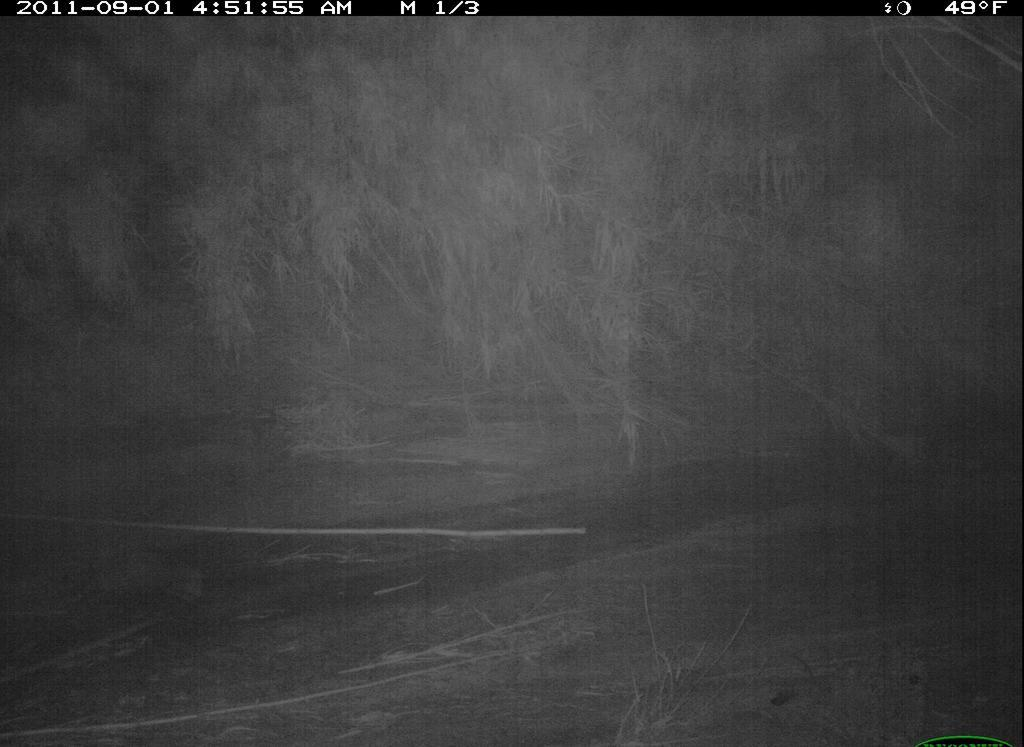opossum: (56, 539, 218, 616)
